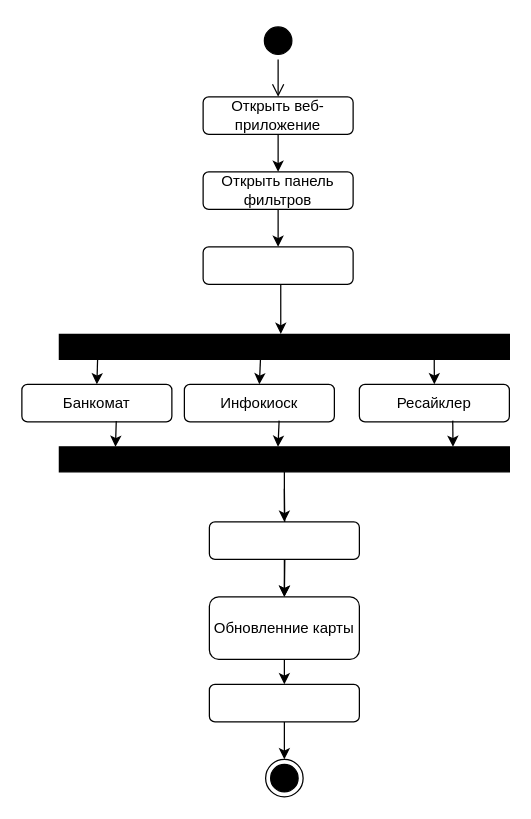
The diagram is 531 pixels wide and 819 high, and some of its shapes have lost their labels. The shapes that lost their labels are listed below. From the top down, each one's centre as x and y in pixels, then its label:
pixel 277 265: Выбор фильтров
pixel 283 540: Применение фильтров
pixel 283 702: Просмотр обновленной карты
